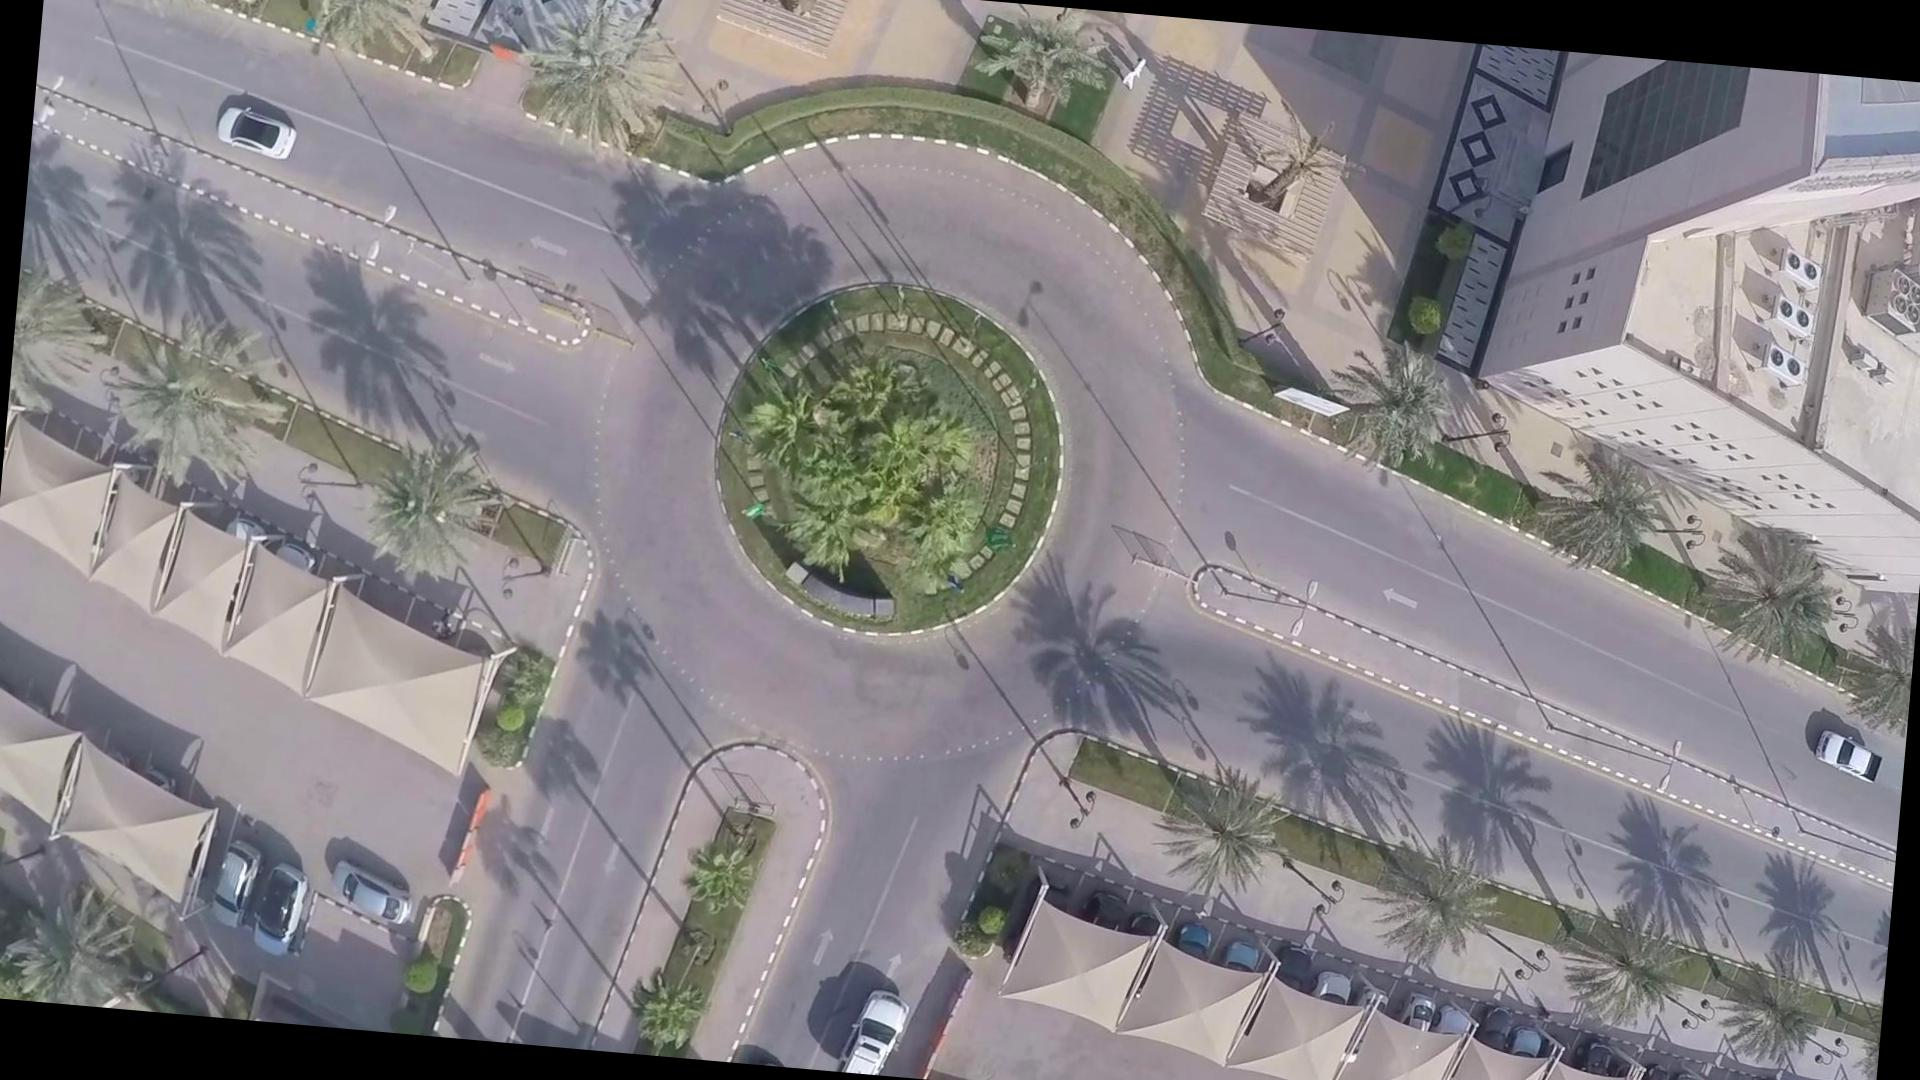vehicle: (1805, 720, 1896, 791), (224, 98, 296, 166)
